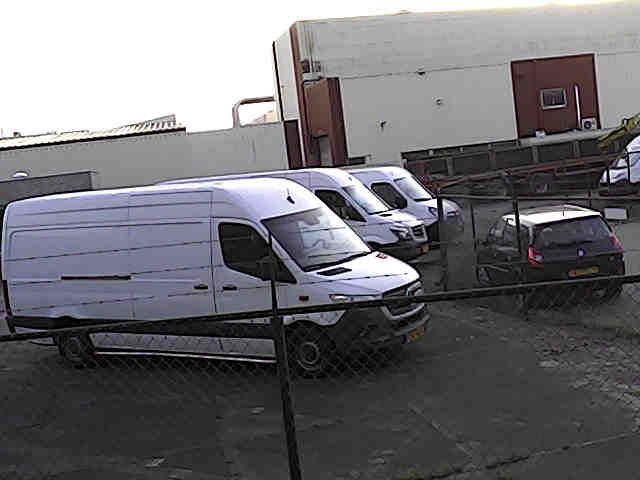suv: (478, 205, 624, 284)
whitevan: (2, 178, 421, 360)
